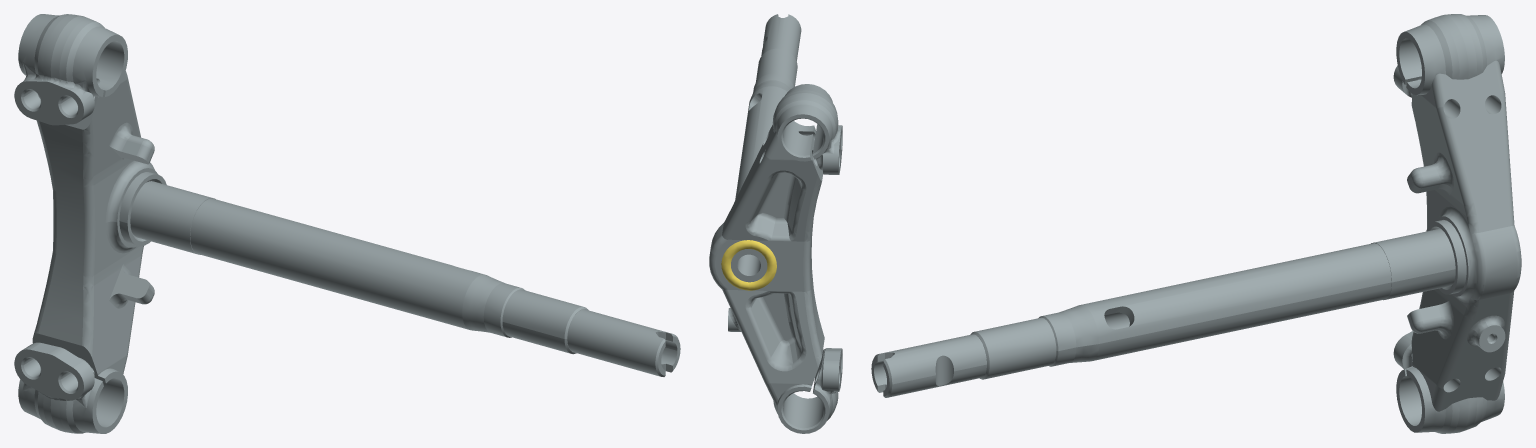
Rendered from stemassy.glb.
3 renders of one model, left to right at view 1: azimuth 30°, elevation 25°; view 2: azimuth 150°, elevation 25°; view 3: azimuth 270°, elevation 25°, orthographic. The views are drawn at different scales.
Visible parts, largest first — view 1: empty_4, empty_3; view 2: empty_4, empty_3, empty_2; view 3: empty_4, empty_3.
Part boxes in pixels (box(x1,y1,x2,y2)): empty_4: box(14, 14, 166, 433); empty_3: box(130, 181, 680, 376); empty_4: box(709, 84, 842, 433); empty_3: box(731, 14, 801, 282); empty_2: box(721, 240, 776, 290); empty_4: box(1393, 14, 1521, 433); empty_3: box(871, 229, 1455, 397).
Bounding box in the file's own units: 223 × 232 × 331.
